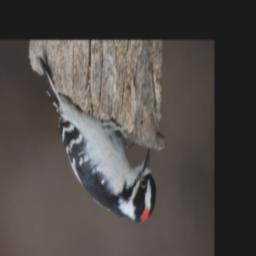Woodpecker: (35, 53, 158, 226)
